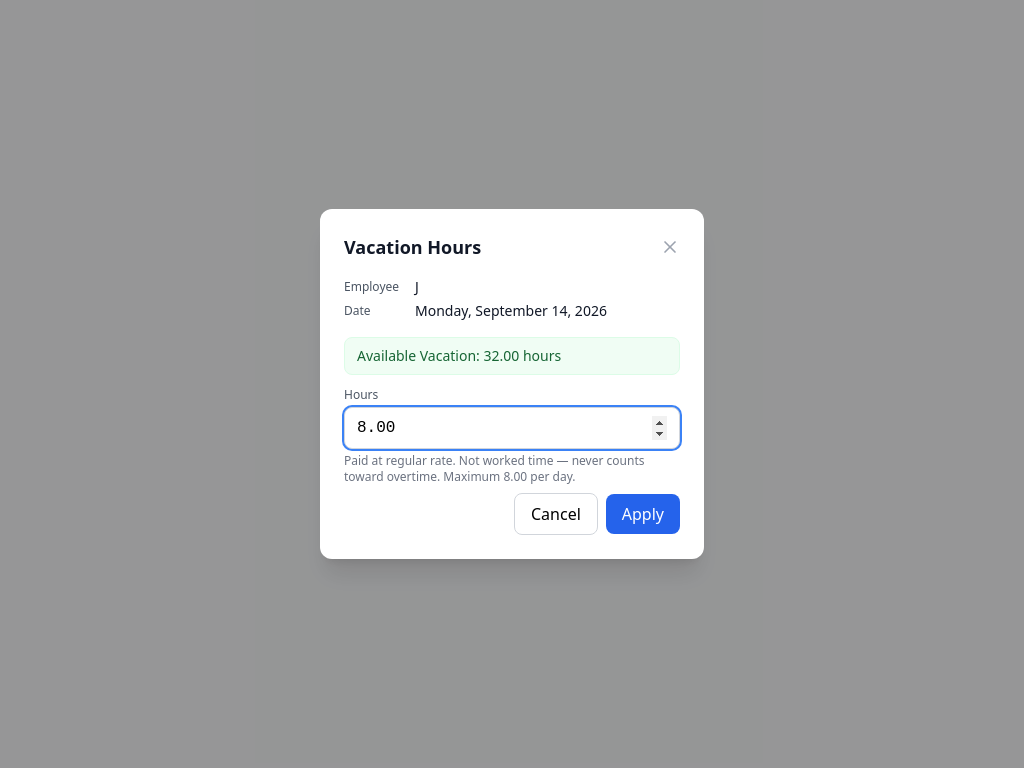
Test case: LeaveHoursModal — defaults, limits, balance, server errors › submits the entered hours and surfaces a backend validation error verbatim
Replace the text in the number field labelled "Hours" with "6" at point(512, 428), box [344,407,680,449]
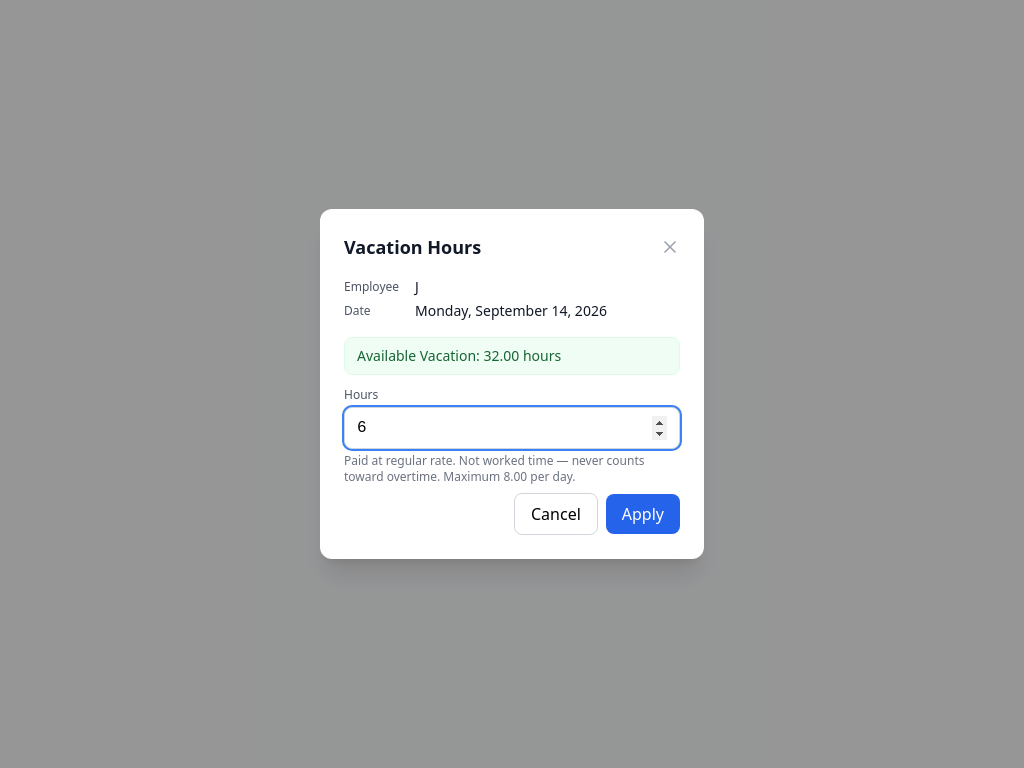
Click the button "Apply".
click(643, 514)  # box [606,494,680,534]
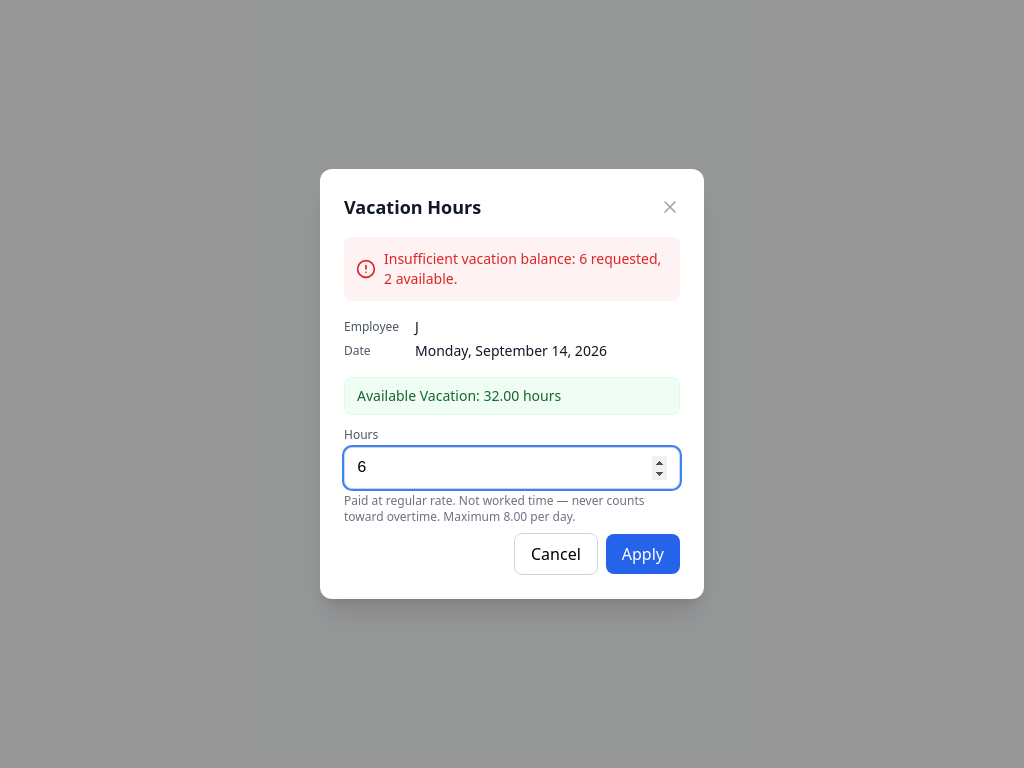
Check: the text "Insufficient vacation balance: 6 requested, 2 available." is shown, box [384,249,668,289]
